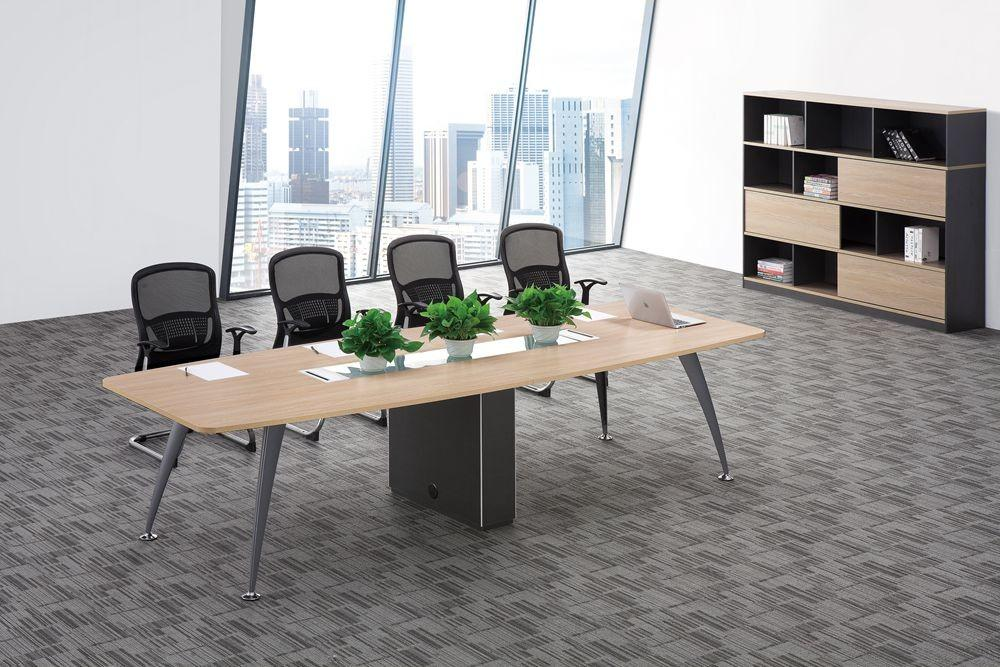conference_table: (103, 293, 766, 601)
